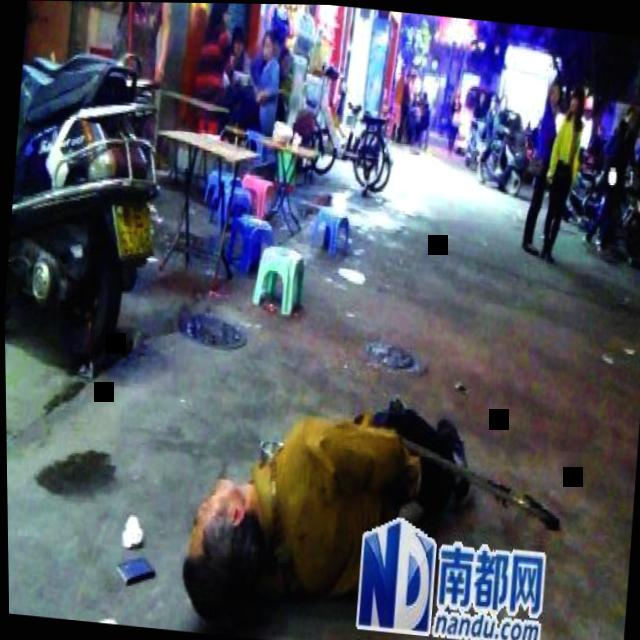Fall-Detected: (169, 344, 485, 640)
